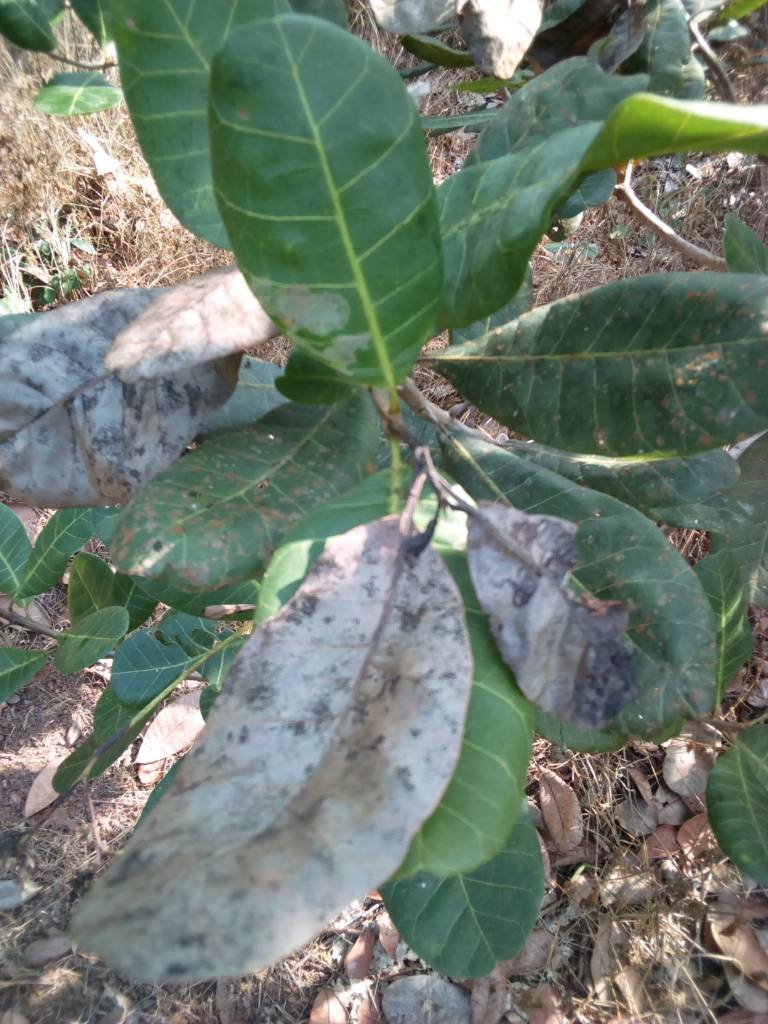Dessèchement des bourgeons: (399, 400, 467, 495)
